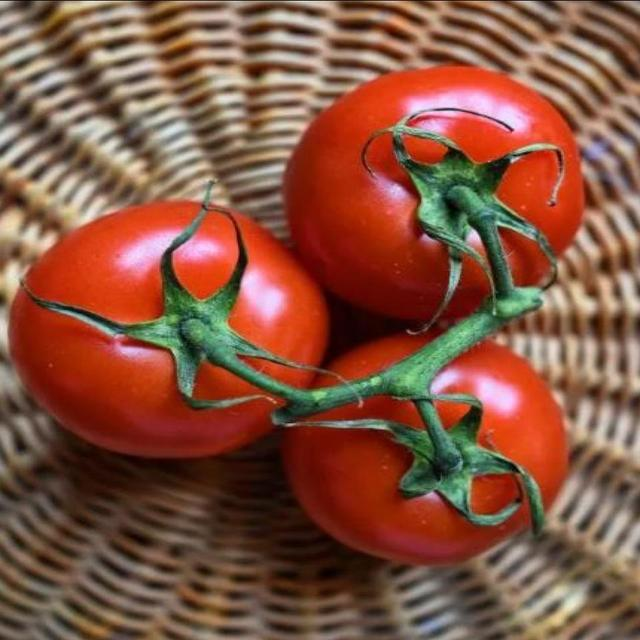Healthy Fruit: (123, 164, 293, 301)
